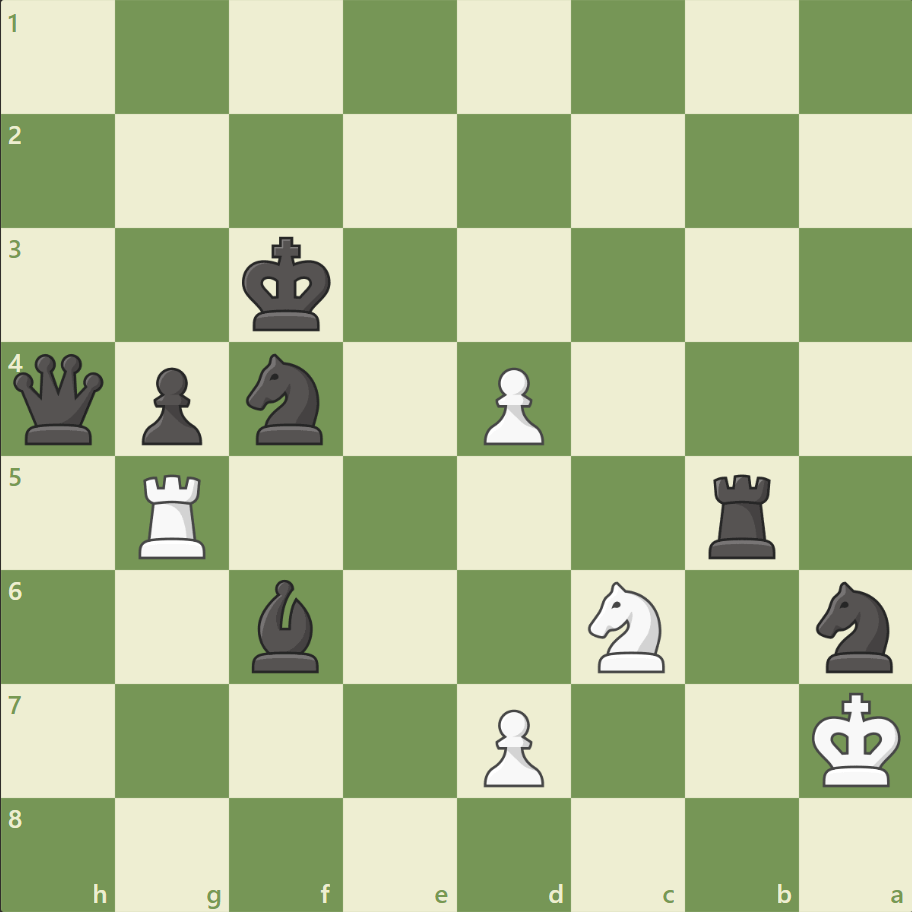K: (806, 685, 906, 793)
N: (579, 575, 676, 677)
P: (474, 700, 549, 791), (474, 359, 549, 450)
R: (133, 466, 215, 563)
b: (244, 574, 328, 676)
k: (238, 231, 338, 339)
n: (806, 575, 903, 677), (238, 348, 335, 450)
p: (133, 359, 208, 450)
q: (10, 349, 109, 449)
r: (700, 466, 783, 563)
